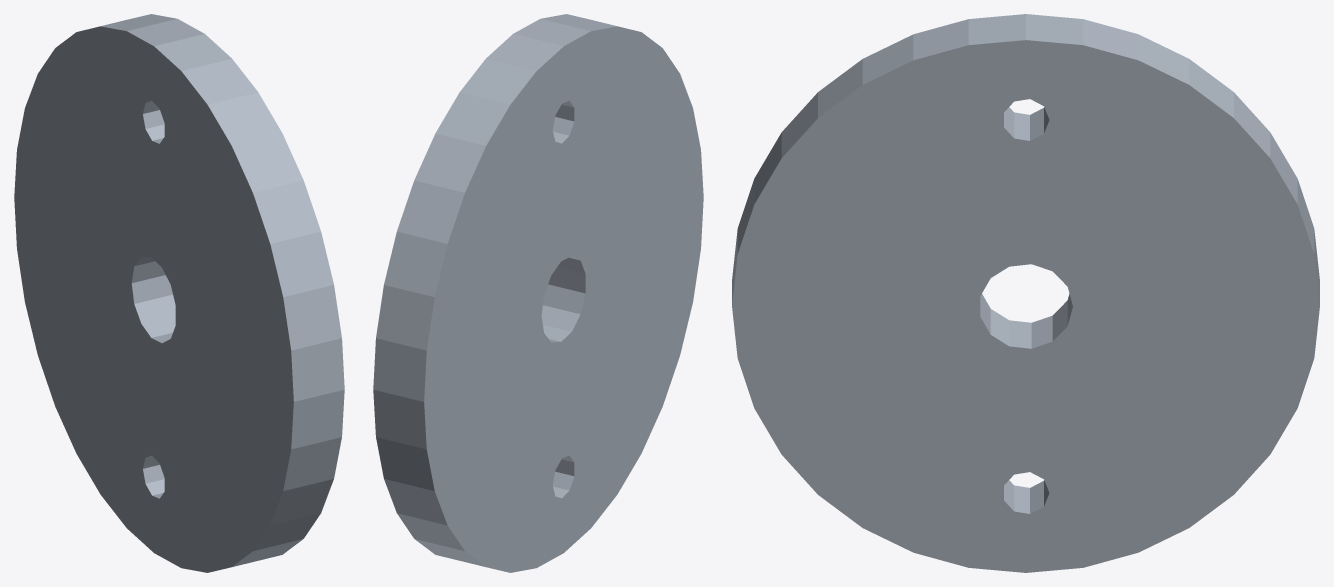
3 views of the same model, side by side, from view 1: azimuth 30°, elevation 25°; view 2: azimuth 150°, elevation 25°; view 3: azimuth 270°, elevation 25° (orthographic). The views are drawn at different scales.
Visible parts, largest first — view 1: part_033; view 2: part_033; view 3: part_033.
Part boxes in pixels (bbox=[...]): part_033: bbox=[14, 14, 344, 572]; part_033: bbox=[373, 14, 703, 572]; part_033: bbox=[732, 14, 1319, 572].
Bounding box in the file's own units: 0.0021 × 0.02 × 0.02.
